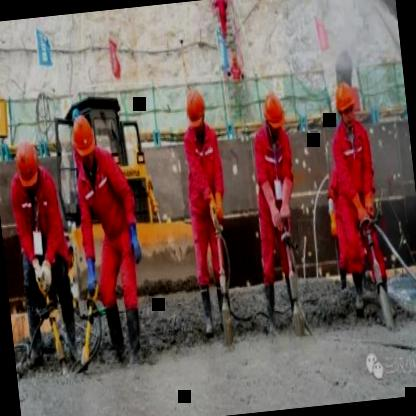helmet: (67, 109, 100, 172), (12, 134, 44, 190), (330, 74, 362, 126), (259, 88, 289, 140), (181, 84, 209, 136)
